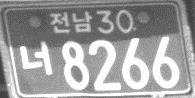0: (115, 8, 134, 34)
2: (87, 38, 122, 92)
3: (95, 8, 114, 35)
6: (121, 36, 150, 90), (151, 35, 180, 89)
8: (60, 39, 90, 91)
너: (18, 39, 53, 76)
전남_O: (48, 9, 92, 34)
